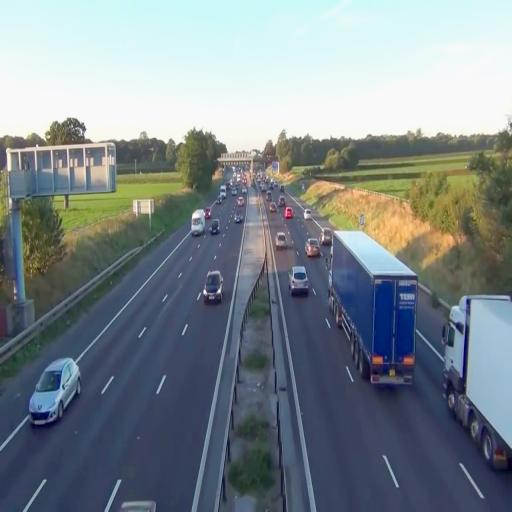vehicle: (329, 228, 417, 386), (442, 296, 512, 472), (28, 357, 81, 426), (202, 270, 224, 303), (289, 265, 310, 296), (305, 238, 320, 259), (275, 229, 290, 249), (210, 219, 220, 235)
